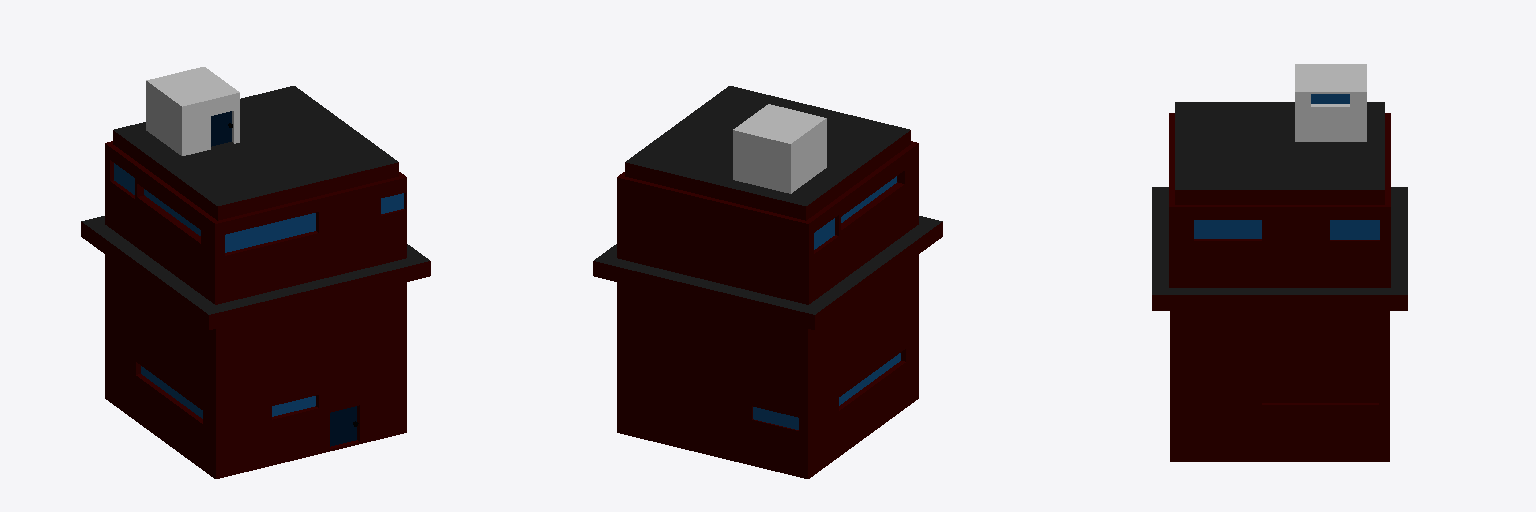
File: Storage.obj
3 views of the same model, side by side, from view 1: azimuth 30°, elevation 25°; view 2: azimuth 150°, elevation 25°; view 3: azimuth 270°, elevation 25° (orthographic).
Visible parts, largest first — view 1: Storage_Cube.001; view 2: Storage_Cube.001; view 3: Storage_Cube.001.
Part boxes in pixels (left/top/right/bottom): Storage_Cube.001: left=81, top=67, right=430, bottom=478; Storage_Cube.001: left=593, top=86, right=942, bottom=478; Storage_Cube.001: left=1152, top=64, right=1407, bottom=461.
Size of the model in its own units: 15.93 by 21.95 by 15.93.